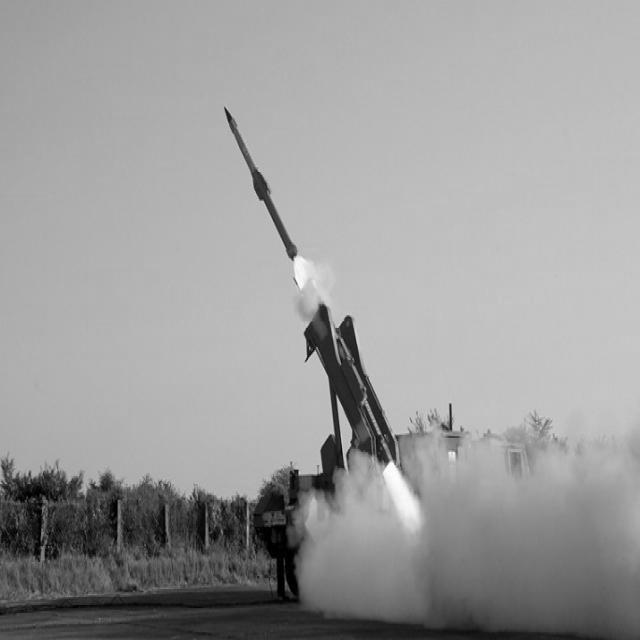missile: (220, 105, 299, 266)
